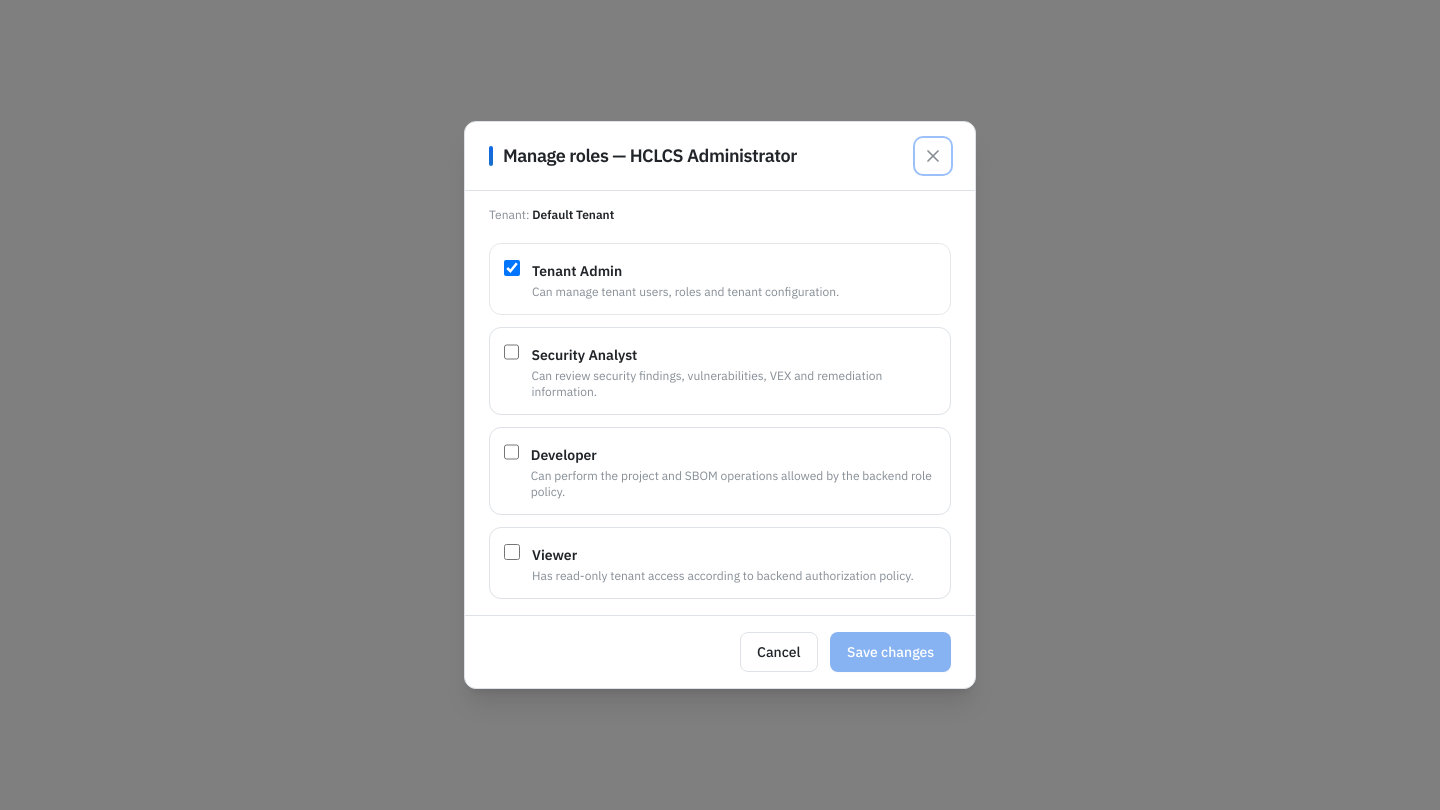
it: ManageRolesModal › preserves draft and keeps modal open on Save error
Click the checkbox labelled "Viewer". click: [512, 552]
box: [504,544,520,560]
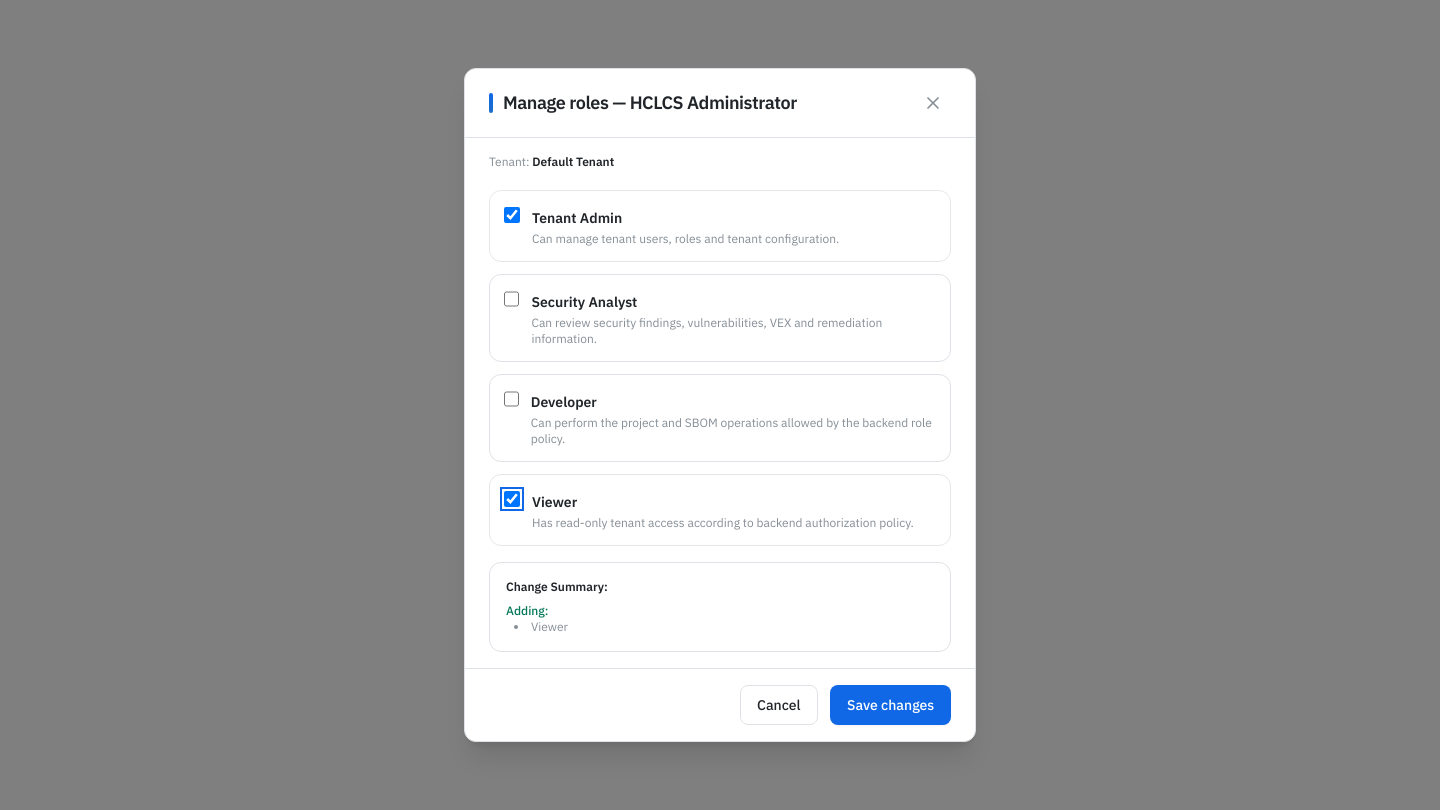
Click the button "Save changes". click: [890, 705]
box: [830,685,951,725]
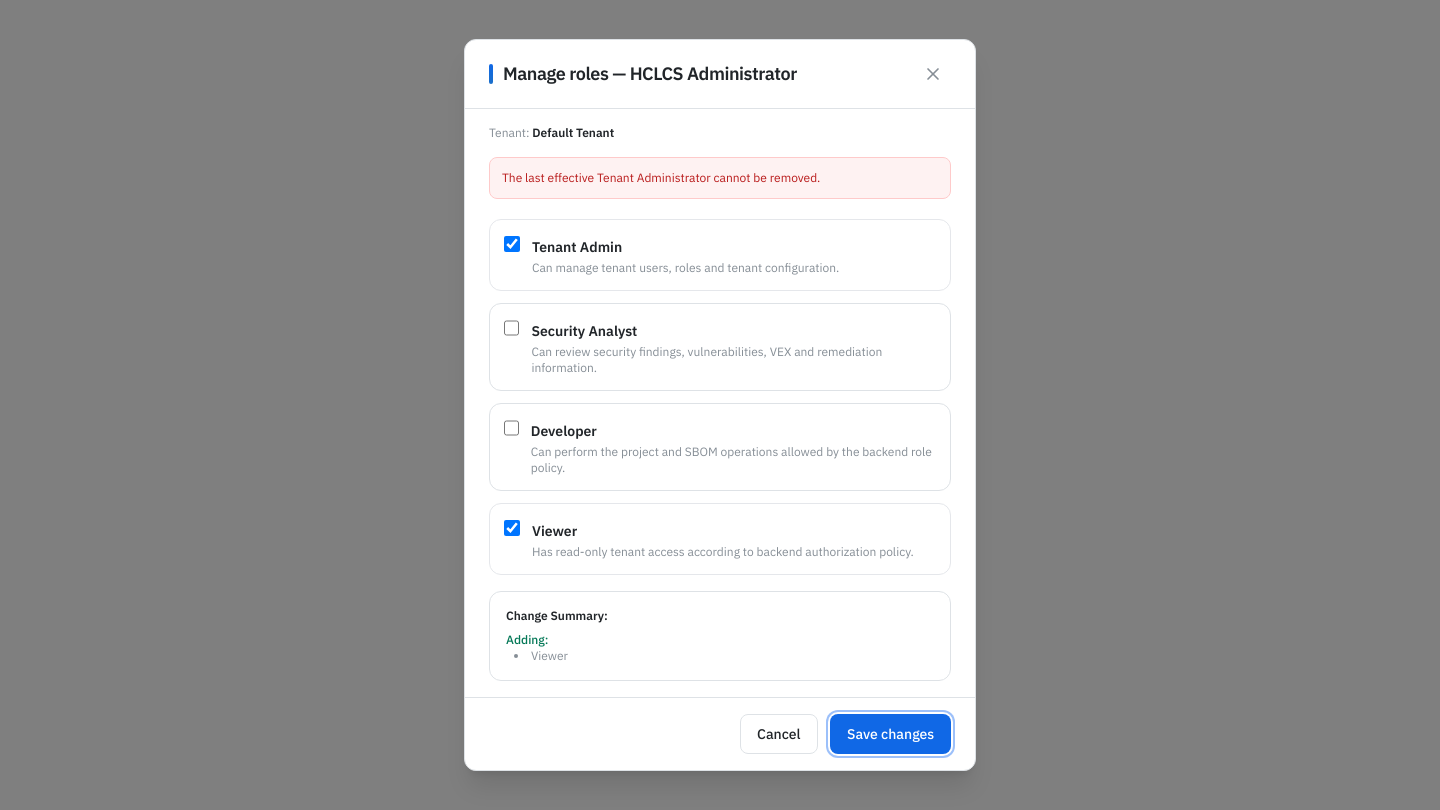
Expected: the heading "Manage roles — HCLCS Administrator" is shown, [503,60,797,88]
Expected: the text "The last effective Tenant Administrator cannot be removed." is shown, [489,157,951,199]
